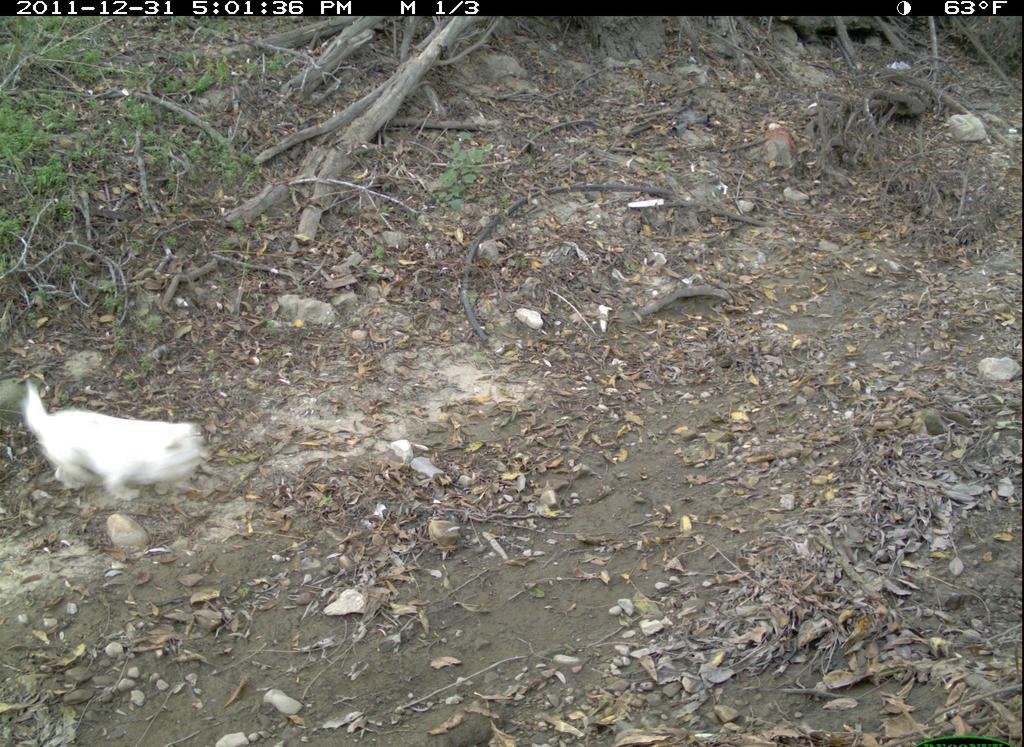dog: (21, 370, 233, 506)
